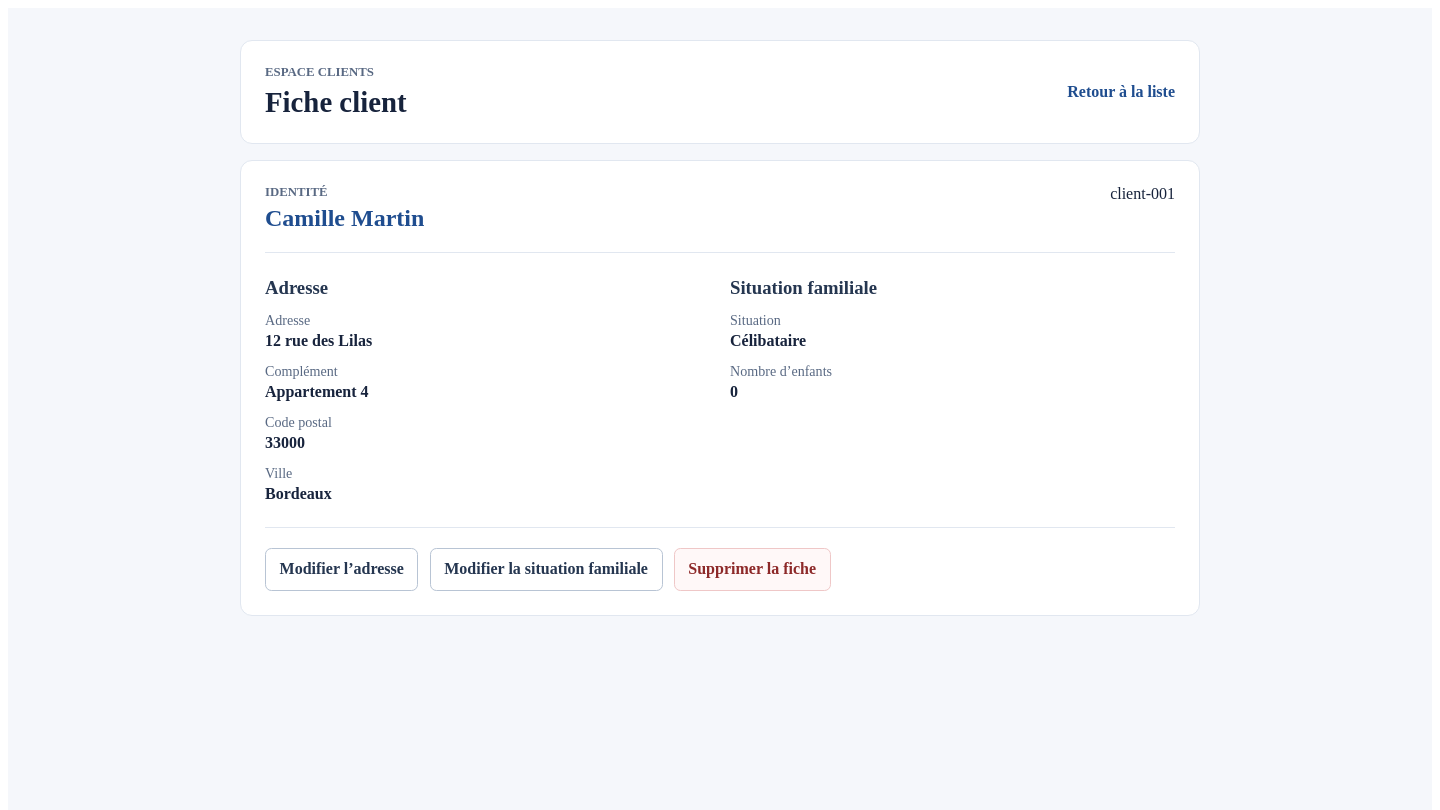
Test case: ClientDetailPageComponent › keeps the record and allows retry after a deletion error
Click the button "Supprimer la fiche".
click(752, 569)  # box [674,548,831,590]
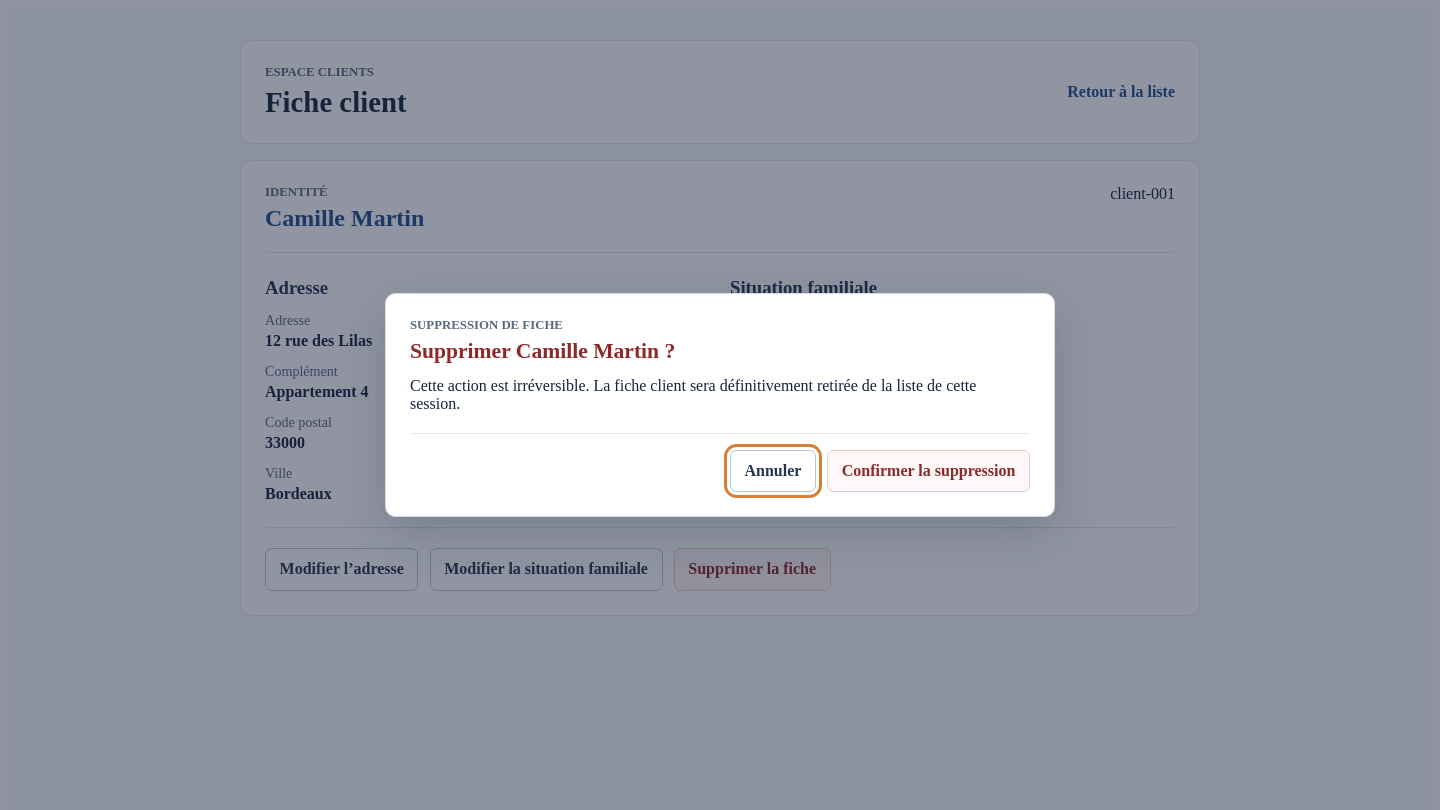
Click the button "Confirmer la suppression".
click(929, 471)  # box [827,450,1030,492]
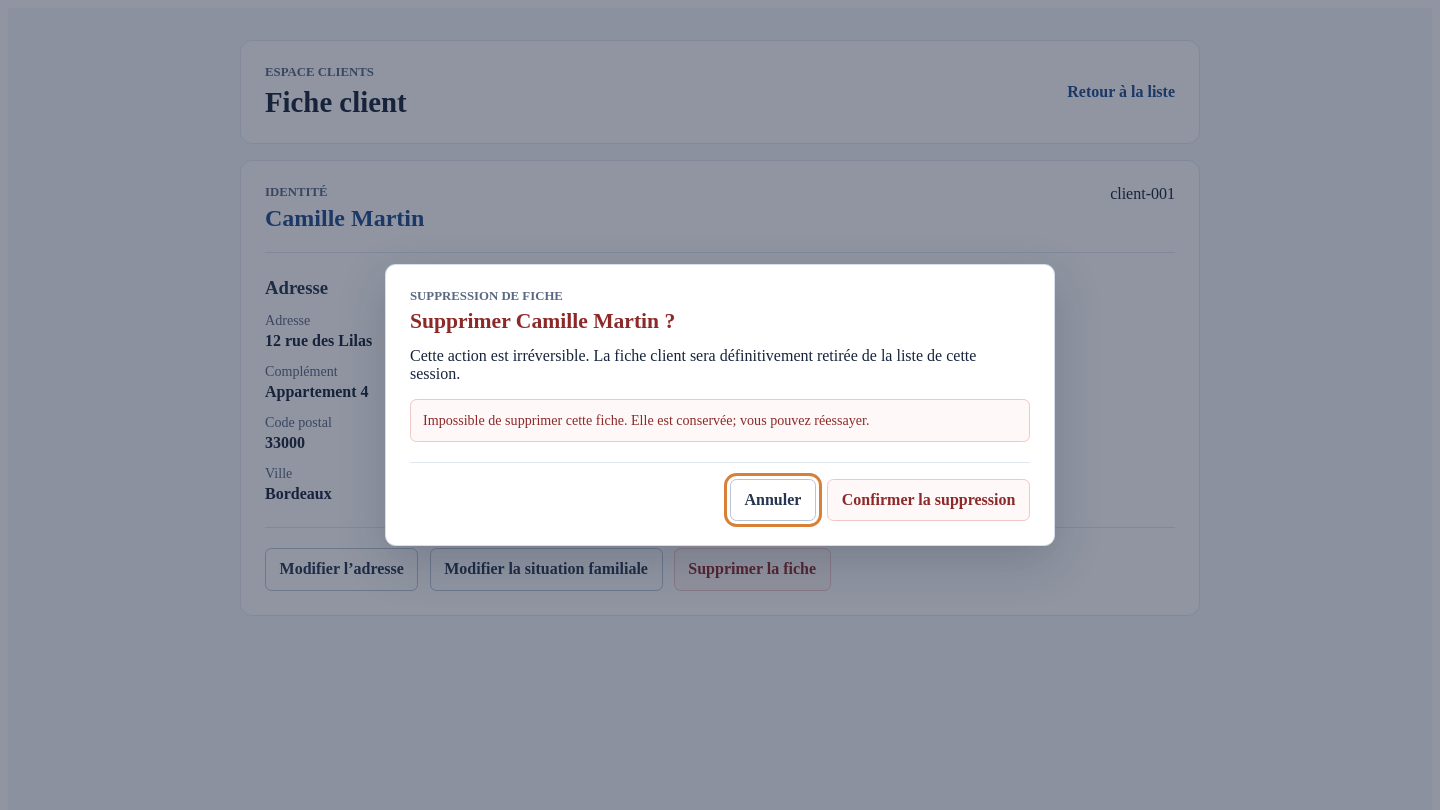
Expected: the text "Camille Martin" is shown, [265,205,424,232]
Expected: the dialog is shown, [385,264,1055,546]
Expected: the message shows "Impossible de supprimer", [423,412,869,428]
